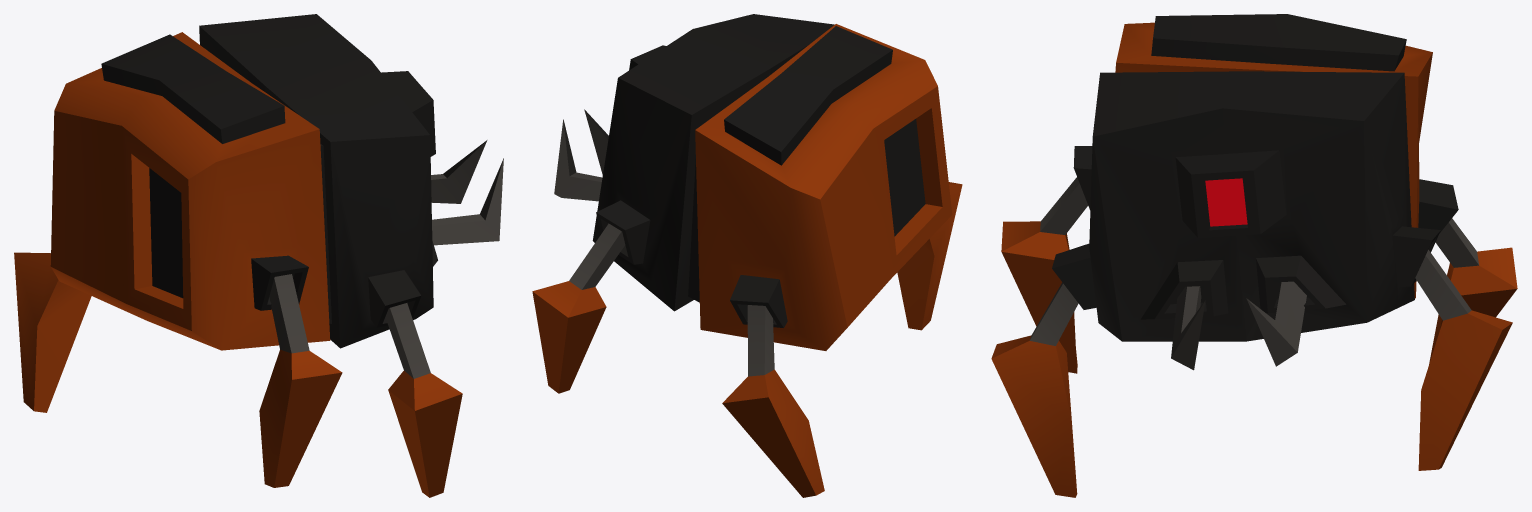
The model's file is SPIDBOT7.obj.
3 views of the same model, side by side, from view 1: azimuth 30°, elevation 25°; view 2: azimuth 150°, elevation 25°; view 3: azimuth 270°, elevation 25° (orthographic). The views are drawn at different scales.
Parts seen in each view (by area): view 1: Cube.001; view 2: Cube.001; view 3: Cube.001.
Boxes of the visible parts, x1,y1,x2,y2 form: Cube.001: (14, 14, 503, 497); Cube.001: (532, 14, 962, 497); Cube.001: (991, 14, 1517, 497).
Size of what is drawn, in the model's own units: 2.92 by 2.9 by 3.43.
